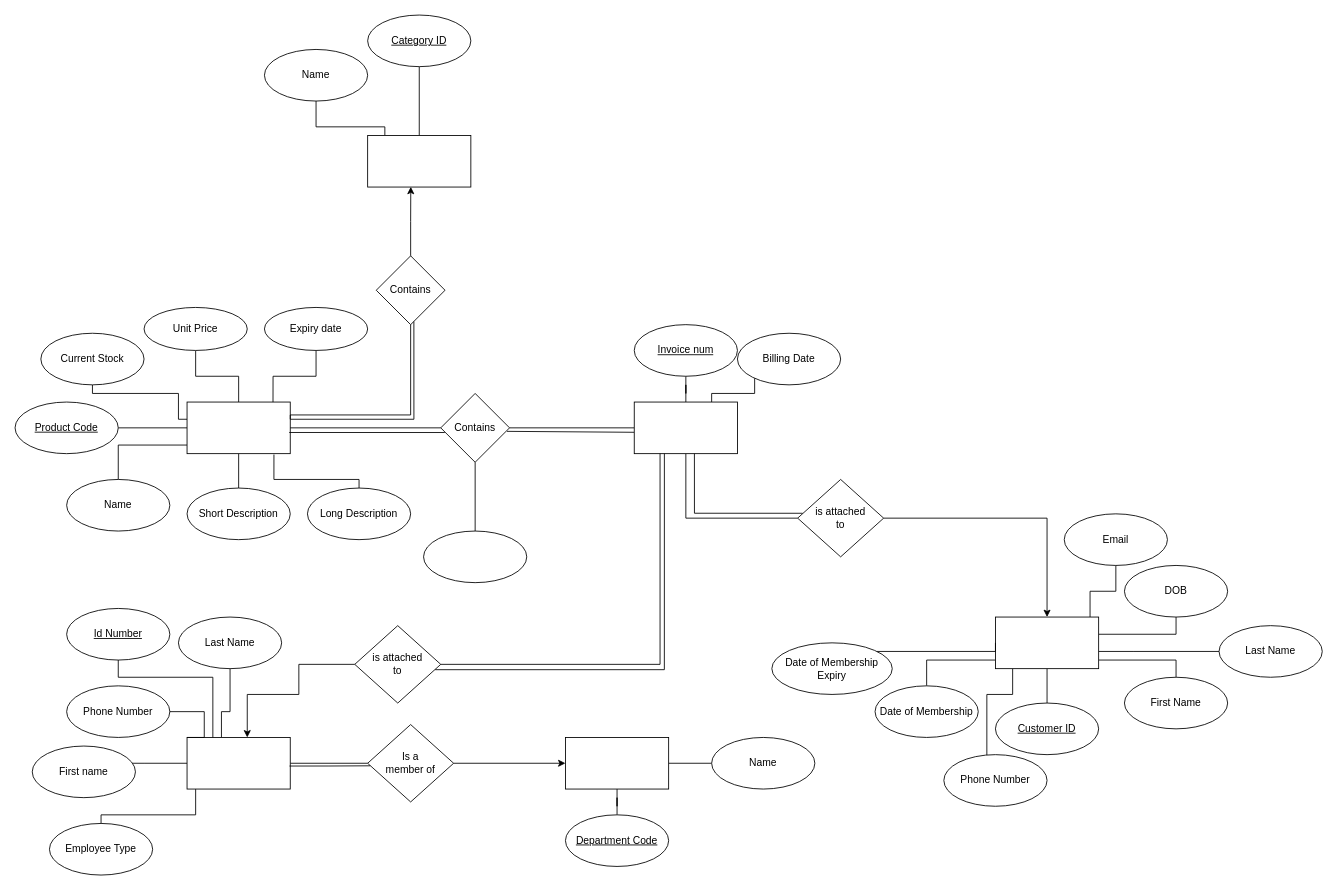
This 1337x890 diagram has some shape labels left out. The centre of each missing label's shape, as x and y in pixels:
"Customer" belongs at point (1047, 642).
"Department" belongs at point (617, 763).
"InvenCategory" belongs at point (419, 161).
"Inventory" belongs at point (238, 427).
"Invoice" belongs at point (685, 427).
"Item Quantity" belongs at point (475, 556).
"Staff" belongs at point (238, 763).
